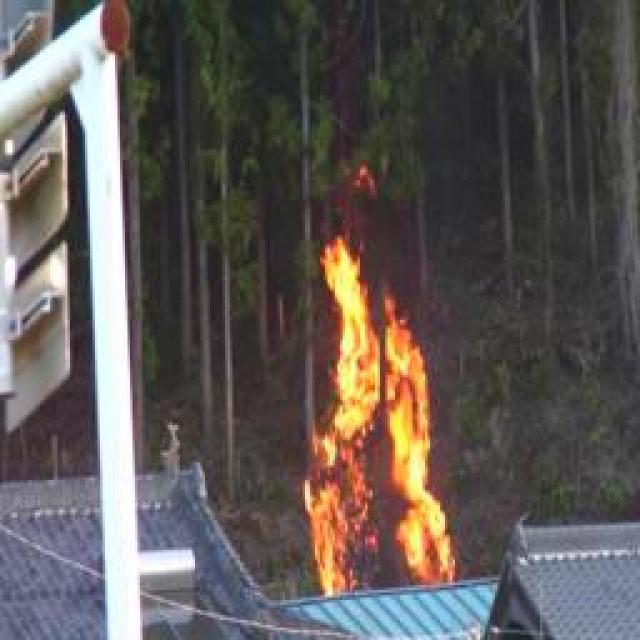Fire: (301, 254, 455, 585)
